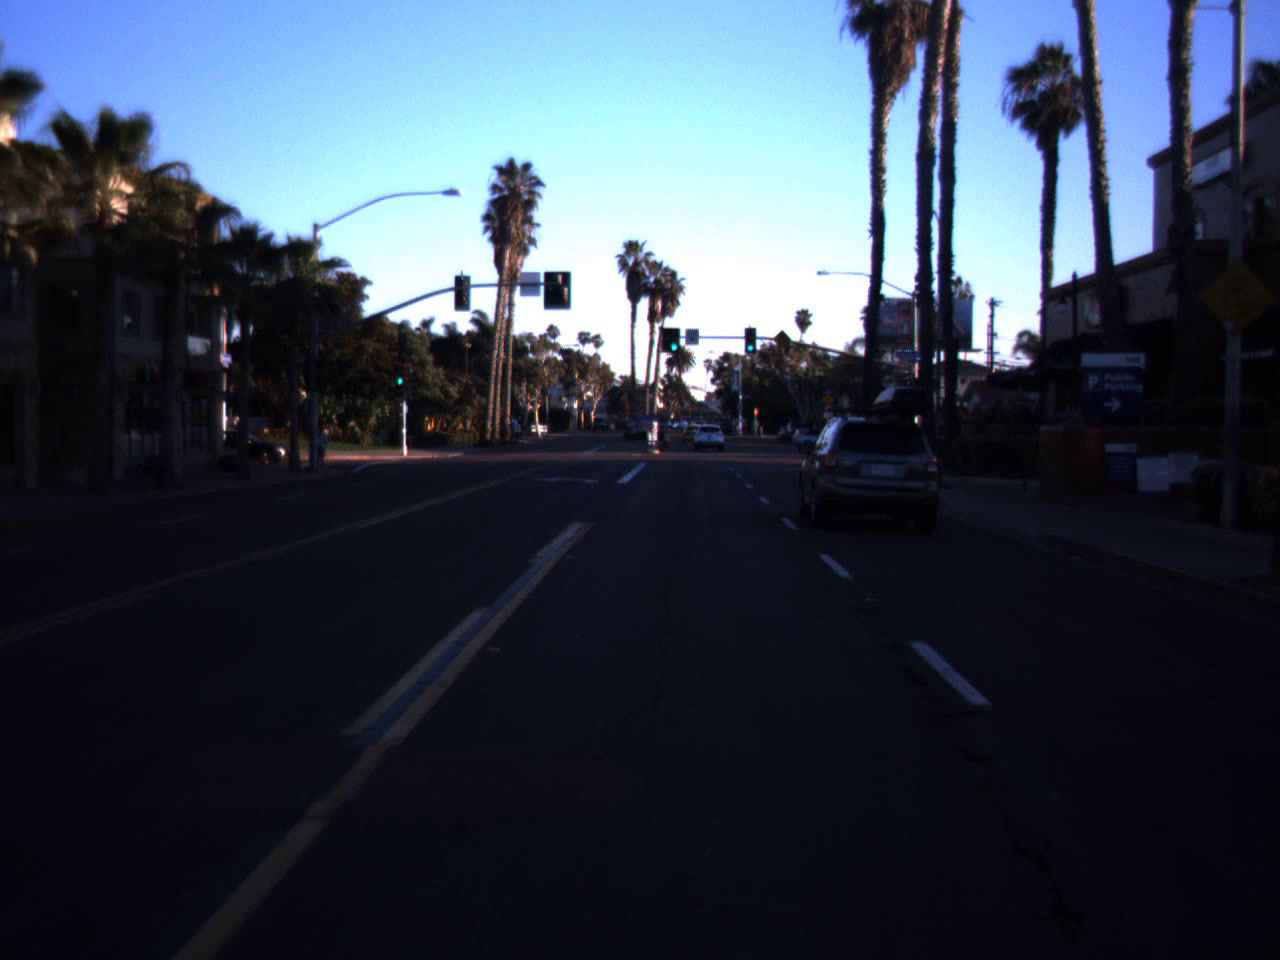go: (394, 361, 406, 386), (668, 327, 680, 352), (744, 332, 756, 352)
